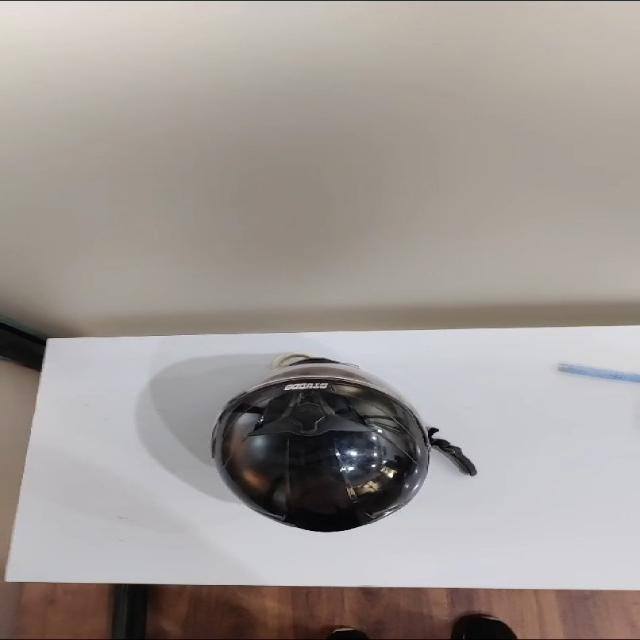helmet: (212, 355, 475, 531)
